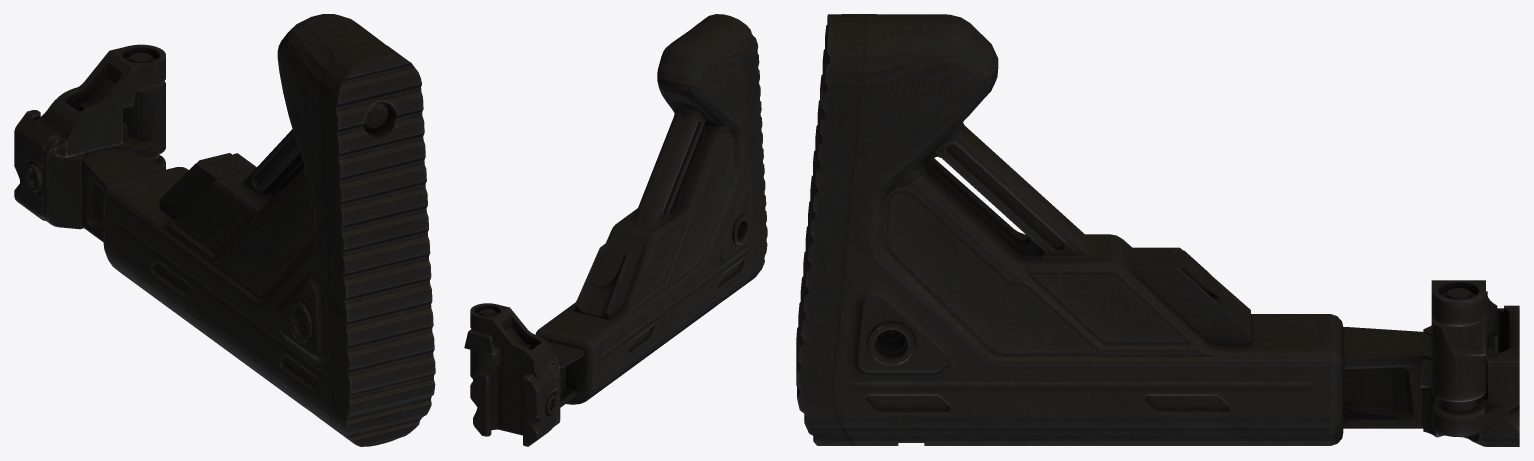
The picture shows the model from 3 angles, left to right: view 1: azimuth 30°, elevation 25°; view 2: azimuth 150°, elevation 25°; view 3: azimuth 270°, elevation 25°; orthographic projection. The views are drawn at different scales.
Visible parts, largest first — view 1: TW_5fbcc429900b1d5091531dd7_PZ_Import; view 2: TW_5fbcc429900b1d5091531dd7_PZ_Import; view 3: TW_5fbcc429900b1d5091531dd7_PZ_Import.
Part boxes in pixels (box(x1,y1,x2,y2)): TW_5fbcc429900b1d5091531dd7_PZ_Import: box(14, 14, 435, 446); TW_5fbcc429900b1d5091531dd7_PZ_Import: box(464, 14, 767, 446); TW_5fbcc429900b1d5091531dd7_PZ_Import: box(796, 14, 1519, 446).
Bounding box in the file's own units: 0.0238 × 0.1102 × 0.0704.
1 material, 1 textured.
